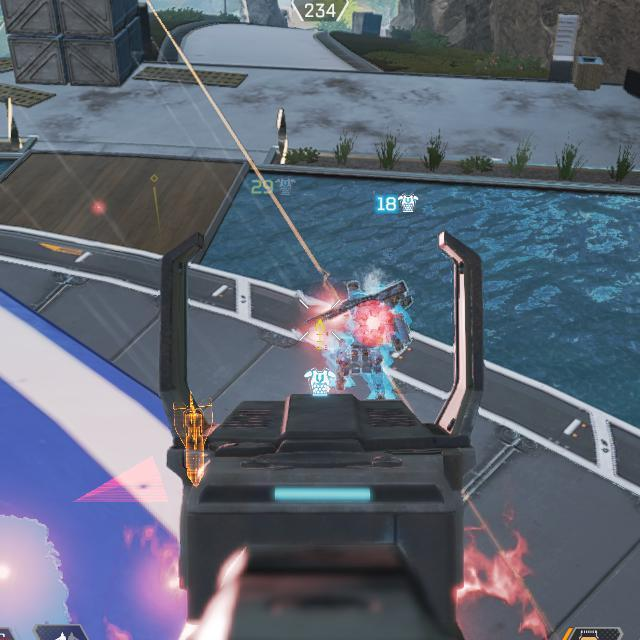avatar: (334, 279, 416, 401)
object: (351, 298, 398, 348)
